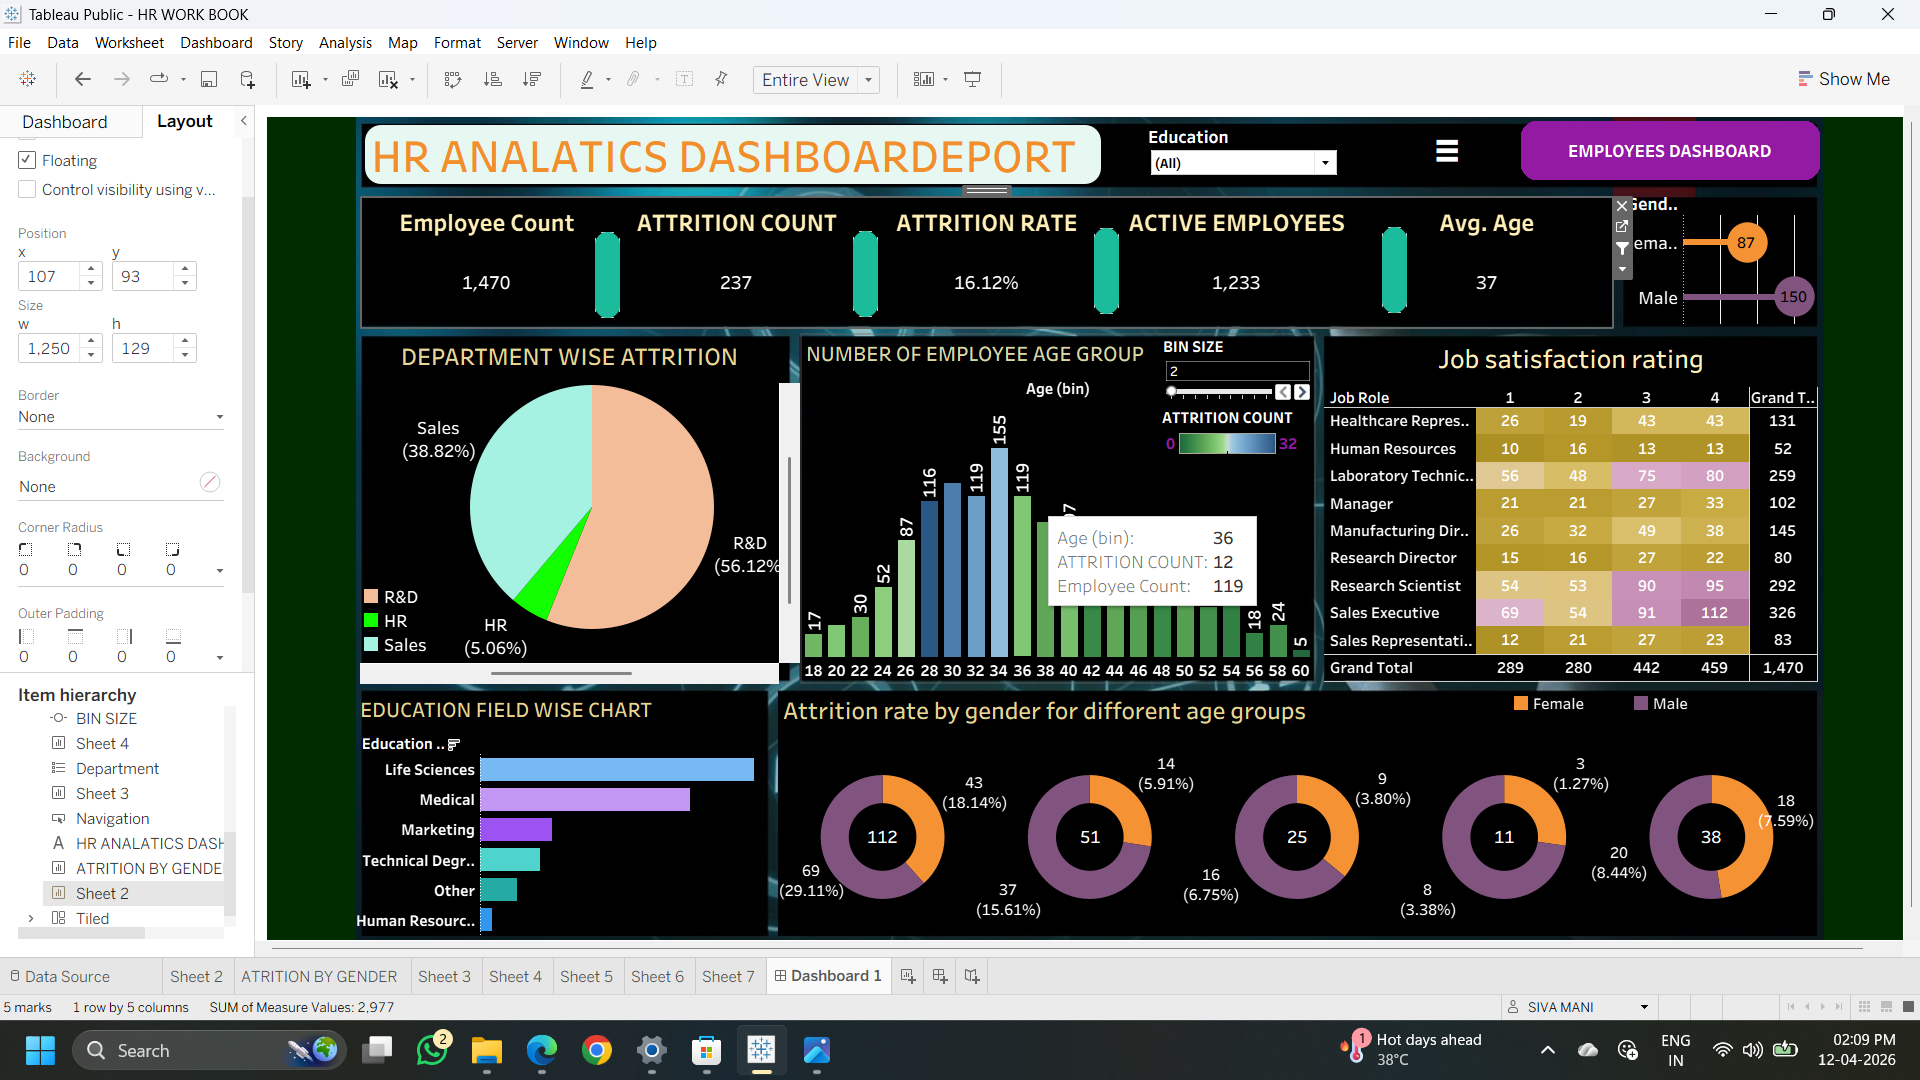

The page's visual inventory and layout, read from the dashboard file:
{"tool":"tableau","page":{"name":"Dashboard 1","canvas":[1670,850],"ordinal":0},"visuals":[{"type":"image","param":"Image/HR background.jpg","box":[8,8,1654,834]},{"type":"dashboard-object","box":[1263,13,305,65]},{"type":"text","box":[107,17,742,65]},{"type":"filter","title":"Sheet 7","param":"[federated.12rzoy219m3oqs1cq712x1f0sd2l].[none:Education:nk]","box":[893,20,192,52]},{"type":"text","box":[1176,31,100,30]},{"type":"worksheet","title":"ATRITION BY GENDER","mark":"Automatic","rows":["Gender"],"cols":["Calculation_0852178977935362","Calculation_0852178977935362"],"box":[1368,90,197,129]},{"type":"worksheet","title":"Sheet 2","mark":"Automatic","box":[107,93,1250,129]},{"type":"worksheet","title":"Sheet 4","mark":"Automatic","rows":["Employee Count"],"cols":["Age (bin)"],"box":[547,230,512,347]},{"type":"worksheet","title":"Sheet 3","mark":"Pie","box":[105,231,431,345]},{"type":"parameter","param":"[Parameters].[Parameter 1]","box":[908,231,150,71]},{"type":"worksheet","title":"Sheet 5","mark":"Square","rows":["Job Role"],"cols":["Job Satisfaction"],"box":[1069,232,494,345]},{"type":"legend","title":"Sheet 4","param":"[federated.12rzoy219m3oqs1cq712x1f0sd2l].[sum:Calculation_0852178977935362:qk]","box":[907,302,140,88]},{"type":"legend","title":"Sheet 3","param":"[federated.12rzoy219m3oqs1cq712x1f0sd2l].[none:Department:nk]","box":[104,479,90,85]},{"type":"worksheet","title":"Sheet 7","mark":"Pie","rows":["Calculation_1079504409116675","Calculation_1079504409116675"],"cols":["CF_age band"],"box":[524,585,1036,247]},{"type":"worksheet","title":"Sheet 6","mark":"Bar","rows":["Education Field"],"cols":["Employee Count"],"box":[101,586,412,244]},{"type":"legend","title":"Sheet 7","param":"[federated.12rzoy219m3oqs1cq712x1f0sd2l].[none:Gender:nk]","box":[1256,588,247,50]}]}

Visuals, with their boxes on the page's 1670x850 design canvas (x1, y1, x2, y2). These are canvas units, not pixel positions in the 1920x1080 screenshot, which may show the page scaled, cropped or inside an application window:
image: 8:8:1662:842
dashboard-object: 1263:13:1568:78
text: 107:17:849:82
"Sheet 7" filter: 893:20:1085:72
text: 1176:31:1276:61
"ATRITION BY GENDER" worksheet: 1368:90:1565:219
"Sheet 2" worksheet: 107:93:1357:222
"Sheet 4" worksheet: 547:230:1059:577
"Sheet 3" worksheet (Pie marks): 105:231:536:576
parameter: 908:231:1058:302
"Sheet 5" worksheet (Square marks): 1069:232:1563:577
"Sheet 4" legend: 907:302:1047:390
"Sheet 3" legend: 104:479:194:564
"Sheet 7" worksheet (Pie marks): 524:585:1560:832
"Sheet 6" worksheet (Bar marks): 101:586:513:830
"Sheet 7" legend: 1256:588:1503:638
